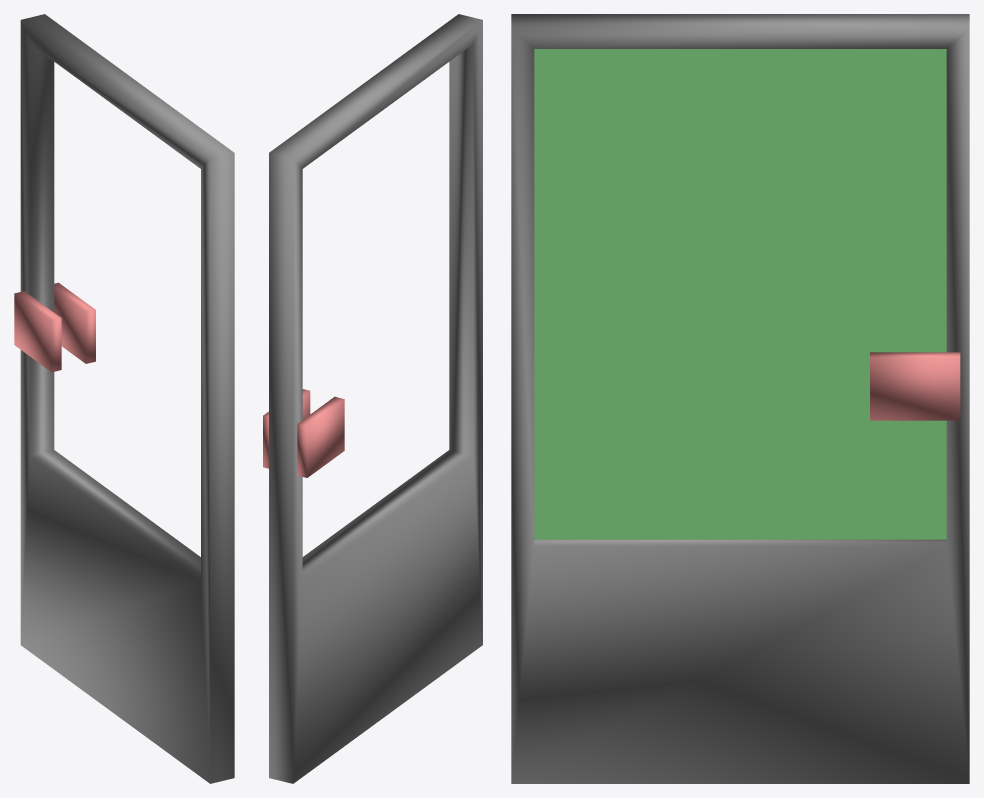
Rendered from SM_doorShop_01.gltf.
3 renders of one model, left to right at view 1: azimuth 30°, elevation 25°; view 2: azimuth 150°, elevation 25°; view 3: azimuth 270°, elevation 25°, orthographic. The views are drawn at different scales.
Visible parts, largest first — view 1: SM_doorShop_01; view 2: SM_doorShop_01; view 3: SM_doorShop_01.
Part boxes in pixels (x1=…): SM_doorShop_01: x1=14, y1=14, x2=234, y2=783; SM_doorShop_01: x1=263, y1=14, x2=482, y2=783; SM_doorShop_01: x1=511, y1=14, x2=969, y2=783.
Bounding box in the file's own units: 0.1614 × 2.18 × 1.2.
